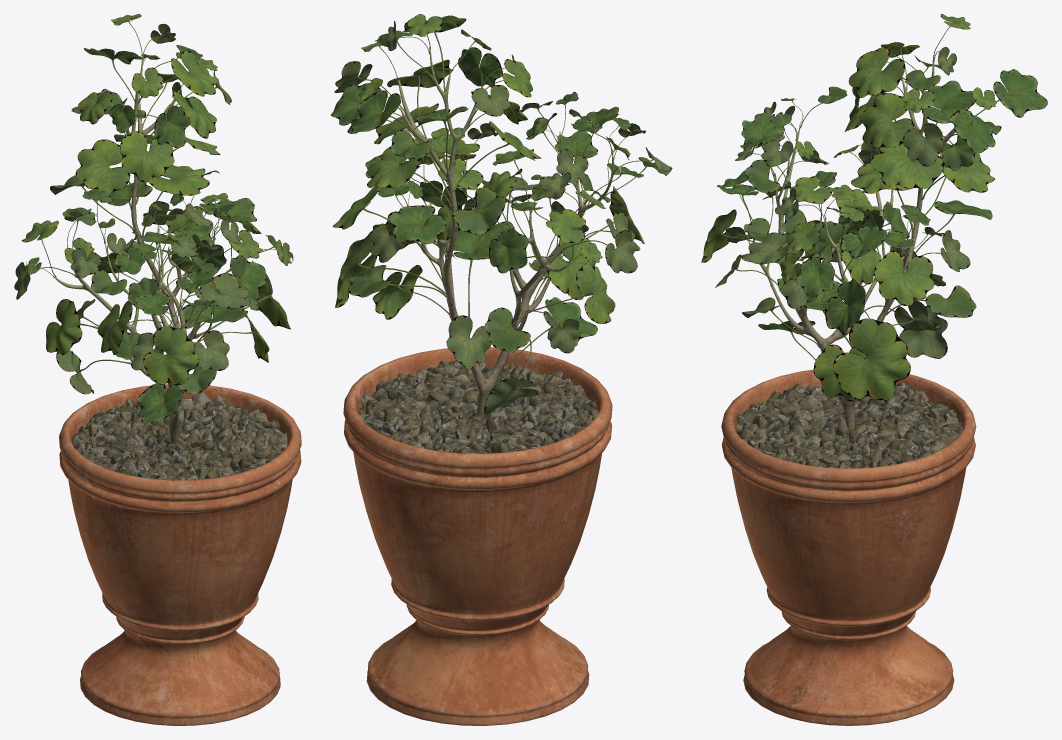
The model's file is potted_plant_01.glb.
The picture shows the model from 3 angles, left to right: view 1: azimuth 30°, elevation 25°; view 2: azimuth 150°, elevation 25°; view 3: azimuth 270°, elevation 25°; orthographic projection. The views are drawn at different scales.
Parts seen in each view (by area): view 1: potted_plant_01; view 2: potted_plant_01; view 3: potted_plant_01.
Boxes of the visible parts, left/top/right/bottom form: potted_plant_01: left=14, top=14, right=301, bottom=725; potted_plant_01: left=331, top=14, right=672, bottom=725; potted_plant_01: left=701, top=14, right=1047, bottom=725.
Size of the model in its own units: 0.5873 by 1.34 by 0.6336.
Materials: 2 (2 with a texture image).
